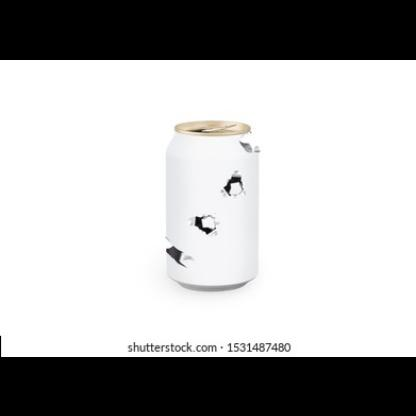Dent_Can: (184, 208, 224, 240), (164, 233, 197, 271), (219, 164, 251, 200), (236, 134, 262, 154)
Tin_Can: (160, 116, 262, 296)
